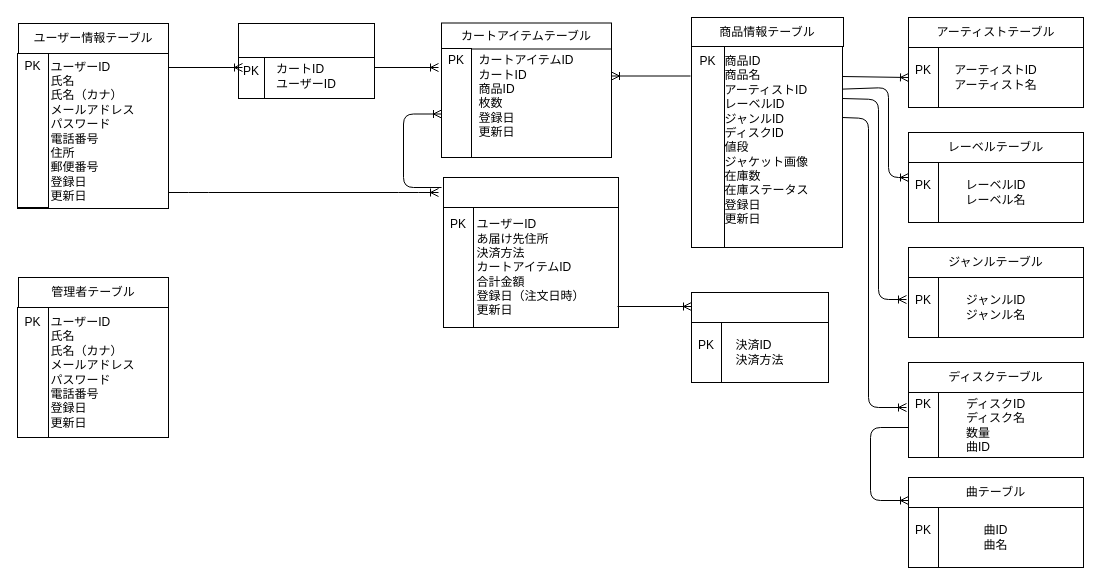
Some shapes in this 1101 by 585 pixel diagram are drawn without their labels. The shapes that lost their labels are listed below. From the top down, each one's centre as x and y in pixels, then its label:
At [306,40]: "カートテーブル".
At [530,192]: "購入履歴テーブル".
At [759,307]: "決済方法テーブル".
